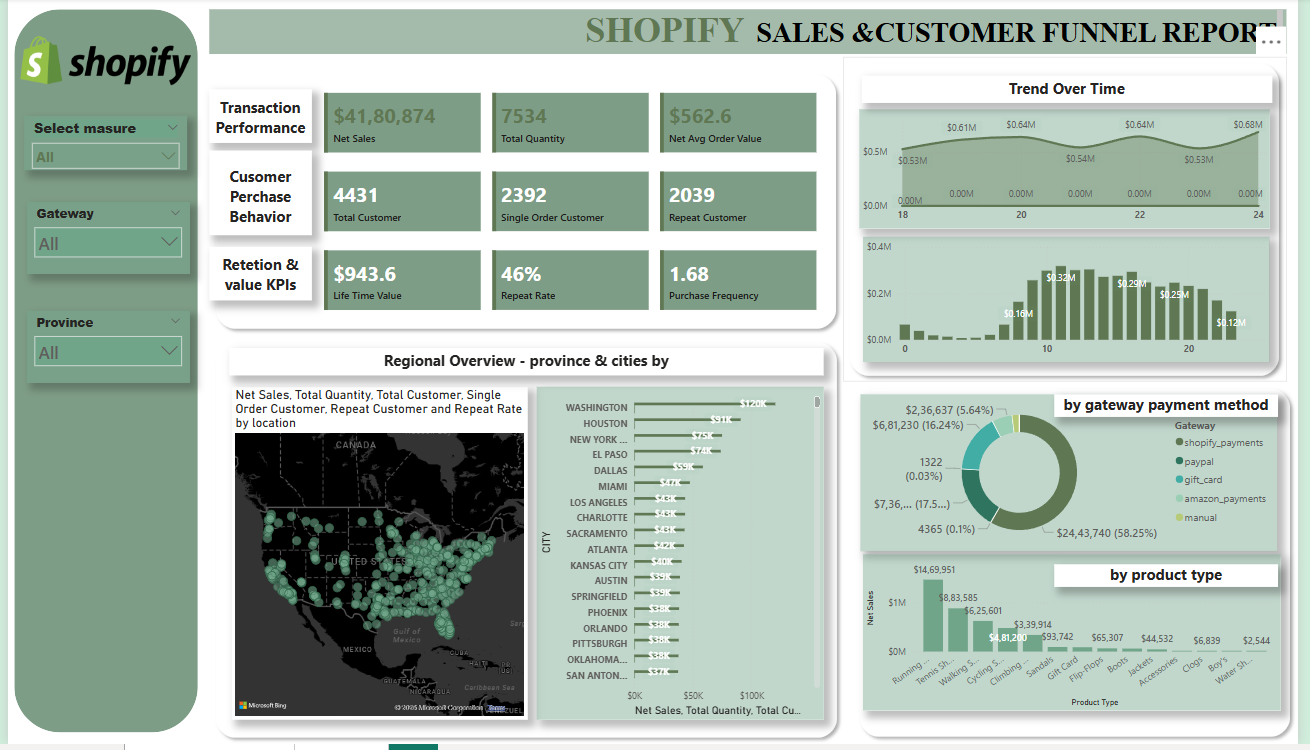

The page's visual inventory and layout, read from the dashboard file:
{"tool":"powerbi","page":{"name":"SHOPIFY Analysis","canvas":[1728,1000],"ordinal":0},"visuals":[{"type":"shape","box":[9.1,14.6,246,969.6],"z":0},{"type":"textbox","box":[269.8,15.1,1444.4,60.3],"z":1000},{"type":"shape","box":[269.8,93.8,849.5,358.6],"z":2000},{"type":"cardVisual","fields":{"Data":["shopify_sales.Net Sales","shopify_sales.Total Quantity","shopify_sales.Net Avg Order Value"]},"box":[418.9,122.3,670.2,90.5],"z":3000},{"type":"card","fields":{"Values":["shopify_sales.Transaction pref"]},"box":[269.8,122.3,137.4,72.1],"z":4000},{"type":"cardVisual","fields":{"Data":["shopify_sales.Total Customer","shopify_sales.Single Order Customer","shopify_sales.Repeat Customer"]},"box":[418.9,227.9,670.2,90.5],"z":5000},{"type":"card","fields":{"Values":["shopify_sales.Cusomer Perchase Behavior"]},"box":[269.8,204.4,137.4,113.9],"z":6000},{"type":"cardVisual","fields":{"Data":["shopify_sales.Life Time Value","shopify_sales.Repeat Rate","shopify_sales.Purchase Frequency"]},"box":[418.9,333.4,670.2,90.5],"z":7000},{"type":"card","fields":{"Values":["shopify_sales.Retetion & value KPIs"]},"box":[269.8,333.4,137.4,72.1],"z":8000},{"type":"shape","box":[270,451.7,850,548.3],"z":9000},{"type":"slicer","fields":{"Values":["Select masure.Select masure"]},"box":[21.7,158.3,218.3,73.3],"z":10000},{"type":"map","fields":{"Category":["shopify_sales.location"]},"box":[300,521.7,396.7,446.7],"z":11000},{"type":"clusteredBarChart","fields":{"Y":["shopify_sales.Net Sales","shopify_sales.Total Quantity","shopify_sales.Total Customer","shopify_sales.Repeat Customer"],"Category":["shopify_sales.CITY"]},"box":[708.3,521.7,385,446.7],"z":12000},{"type":"card","fields":{"Values":["shopify_sales.map title"]},"box":[296.7,470,796.7,36.7],"z":13000},{"type":"shape","box":[1120,78.3,593.3,436.7],"z":14000},{"type":"lineChart","fields":{"Y":["shopify_sales.Net Sales","shopify_sales.Total Quantity","shopify_sales.Total Customer","shopify_sales.Repeat Customer"],"Category":["shopify_sales.Invoice Date.Variation.Date Hierarchy.Day"]},"box":[1141.7,148.3,550,160],"z":15000},{"type":"columnChart","fields":{"Y":["shopify_sales.Net Sales","shopify_sales.Total Quantity","shopify_sales.Total Customer","shopify_sales.Repeat Customer"],"Category":["shopify_sales.hour"]},"box":[1146.7,320,545,168.3],"z":16000},{"type":"card","fields":{"Values":["shopify_sales.Trend title"]},"box":[1145,103.3,550,36.7],"z":17000},{"type":"shape","box":[1133.3,515,595,485],"z":18000},{"type":"donutChart","fields":{"Y":["shopify_sales.Net Sales","shopify_sales.Total Quantity","shopify_sales.Total Customer","shopify_sales.Repeat Customer"],"Category":["shopify_sales.Gateway"]},"box":[1143.3,531.7,558.3,210],"z":19000},{"type":"clusteredColumnChart","fields":{"Y":["shopify_sales.Net Sales"],"Category":["shopify_sales.Product Type"]},"box":[1146.7,758.3,558.3,210],"z":20000},{"type":"card","fields":{"Values":["shopify_sales.gateway title"]},"box":[1401.7,531.7,300,30],"z":21000},{"type":"card","fields":{"Values":["shopify_sales.product title"]},"box":[1401.7,758.3,300,30],"z":22000},{"type":"image","box":[11.7,0,238.3,168.3],"z":23000},{"type":"slicer","fields":{"Values":["shopify_sales.Gateway"]},"box":[25,273.3,218.3,96.7],"z":23001},{"type":"slicer","fields":{"Values":["shopify_sales.Billing Address Province"]},"box":[25,418.3,218.3,96.7],"z":23002}]}

Visuals, with their boxes in screenshot pixels (x1, y1, x2, y2), scaled from the page's 1728x1000 canvas onto the 1310x750 screenshot:
shape: detection(7, 11, 193, 738)
textbox: detection(205, 11, 1300, 57)
shape: detection(205, 70, 849, 339)
cardVisual - shopify_sales.Net Sales x shopify_sales.Total Quantity: detection(318, 92, 826, 160)
card - shopify_sales.Transaction pref: detection(205, 92, 309, 146)
cardVisual - shopify_sales.Total Customer x shopify_sales.Single Order Customer: detection(318, 171, 826, 239)
card - shopify_sales.Cusomer Perchase Behavior: detection(205, 153, 309, 239)
cardVisual - shopify_sales.Life Time Value x shopify_sales.Repeat Rate: detection(318, 250, 826, 318)
card - shopify_sales.Retetion & value KPIs: detection(205, 250, 309, 304)
shape: detection(205, 339, 849, 749)
slicer - Select masure.Select masure: detection(16, 119, 182, 174)
map - shopify_sales.location: detection(227, 391, 528, 726)
clusteredBarChart - shopify_sales.Net Sales x shopify_sales.Total Quantity: detection(537, 391, 829, 726)
card - shopify_sales.map title: detection(225, 352, 829, 380)
shape: detection(849, 59, 1299, 386)
lineChart - shopify_sales.Net Sales x shopify_sales.Total Quantity: detection(866, 111, 1282, 231)
columnChart - shopify_sales.Net Sales x shopify_sales.Total Quantity: detection(869, 240, 1282, 366)
card - shopify_sales.Trend title: detection(868, 77, 1285, 105)
shape: detection(859, 386, 1309, 749)
donutChart - shopify_sales.Net Sales x shopify_sales.Total Quantity: detection(867, 399, 1290, 556)
clusteredColumnChart - shopify_sales.Net Sales x shopify_sales.Product Type: detection(869, 569, 1293, 726)
card - shopify_sales.gateway title: detection(1063, 399, 1290, 421)
card - shopify_sales.product title: detection(1063, 569, 1290, 591)
image: detection(9, 0, 190, 126)
slicer - shopify_sales.Gateway: detection(19, 205, 184, 278)
slicer - shopify_sales.Billing Address Province: detection(19, 314, 184, 386)
